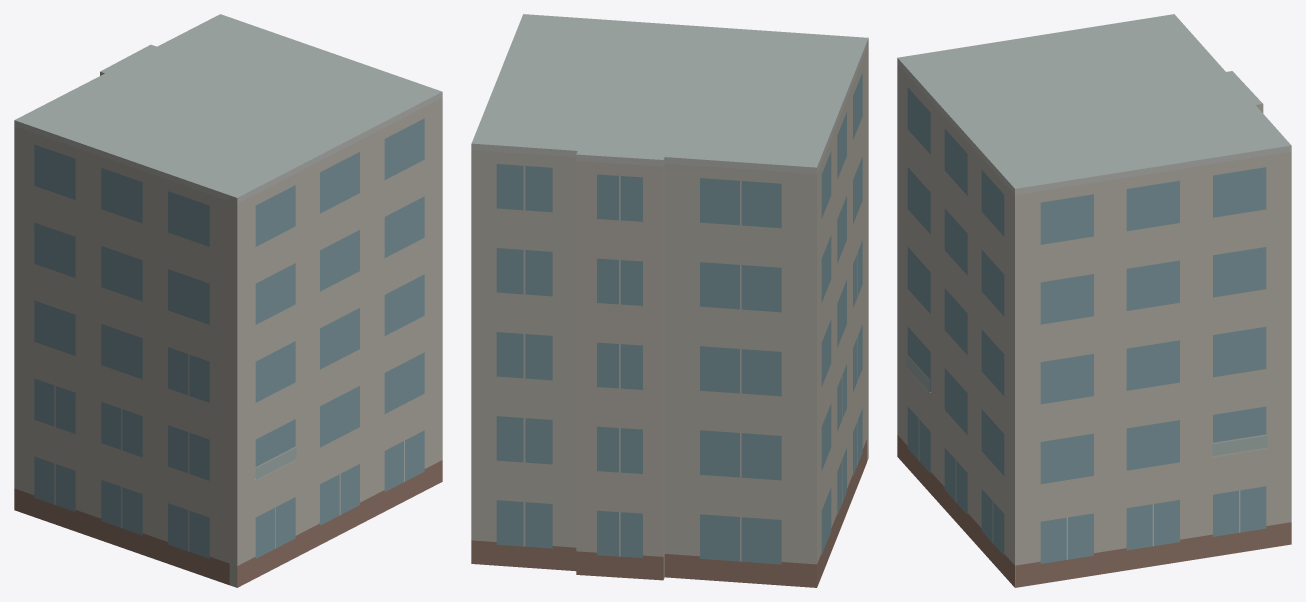
Rendered from survey-upis-32853960.glb.
3 renders of one model, left to right at view 1: azimuth 30°, elevation 25°; view 2: azimuth 150°, elevation 25°; view 3: azimuth 270°, elevation 25°, orthographic. The views are drawn at different scales.
Parts seen in each view (by area): view 1: survey-upis-32853960.tmp; view 2: survey-upis-32853960.tmp; view 3: survey-upis-32853960.tmp.
Part boxes in pixels (x1,y1,x2,y2): survey-upis-32853960.tmp: (14, 14, 442, 587); survey-upis-32853960.tmp: (471, 14, 868, 587); survey-upis-32853960.tmp: (897, 14, 1291, 587).
Size of the model in its own units: 14.96 by 15.9 by 14.25.
